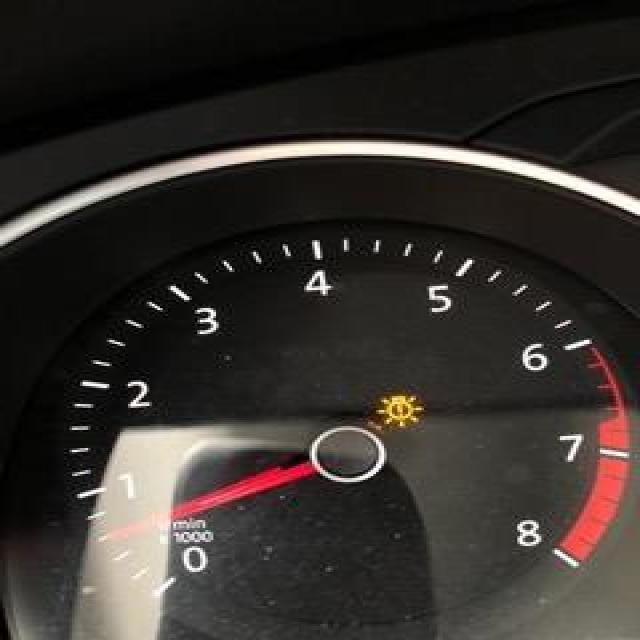kontrolka: (359, 384, 435, 440)
